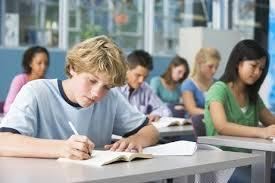study: (0, 36, 156, 162), (203, 33, 275, 139)
